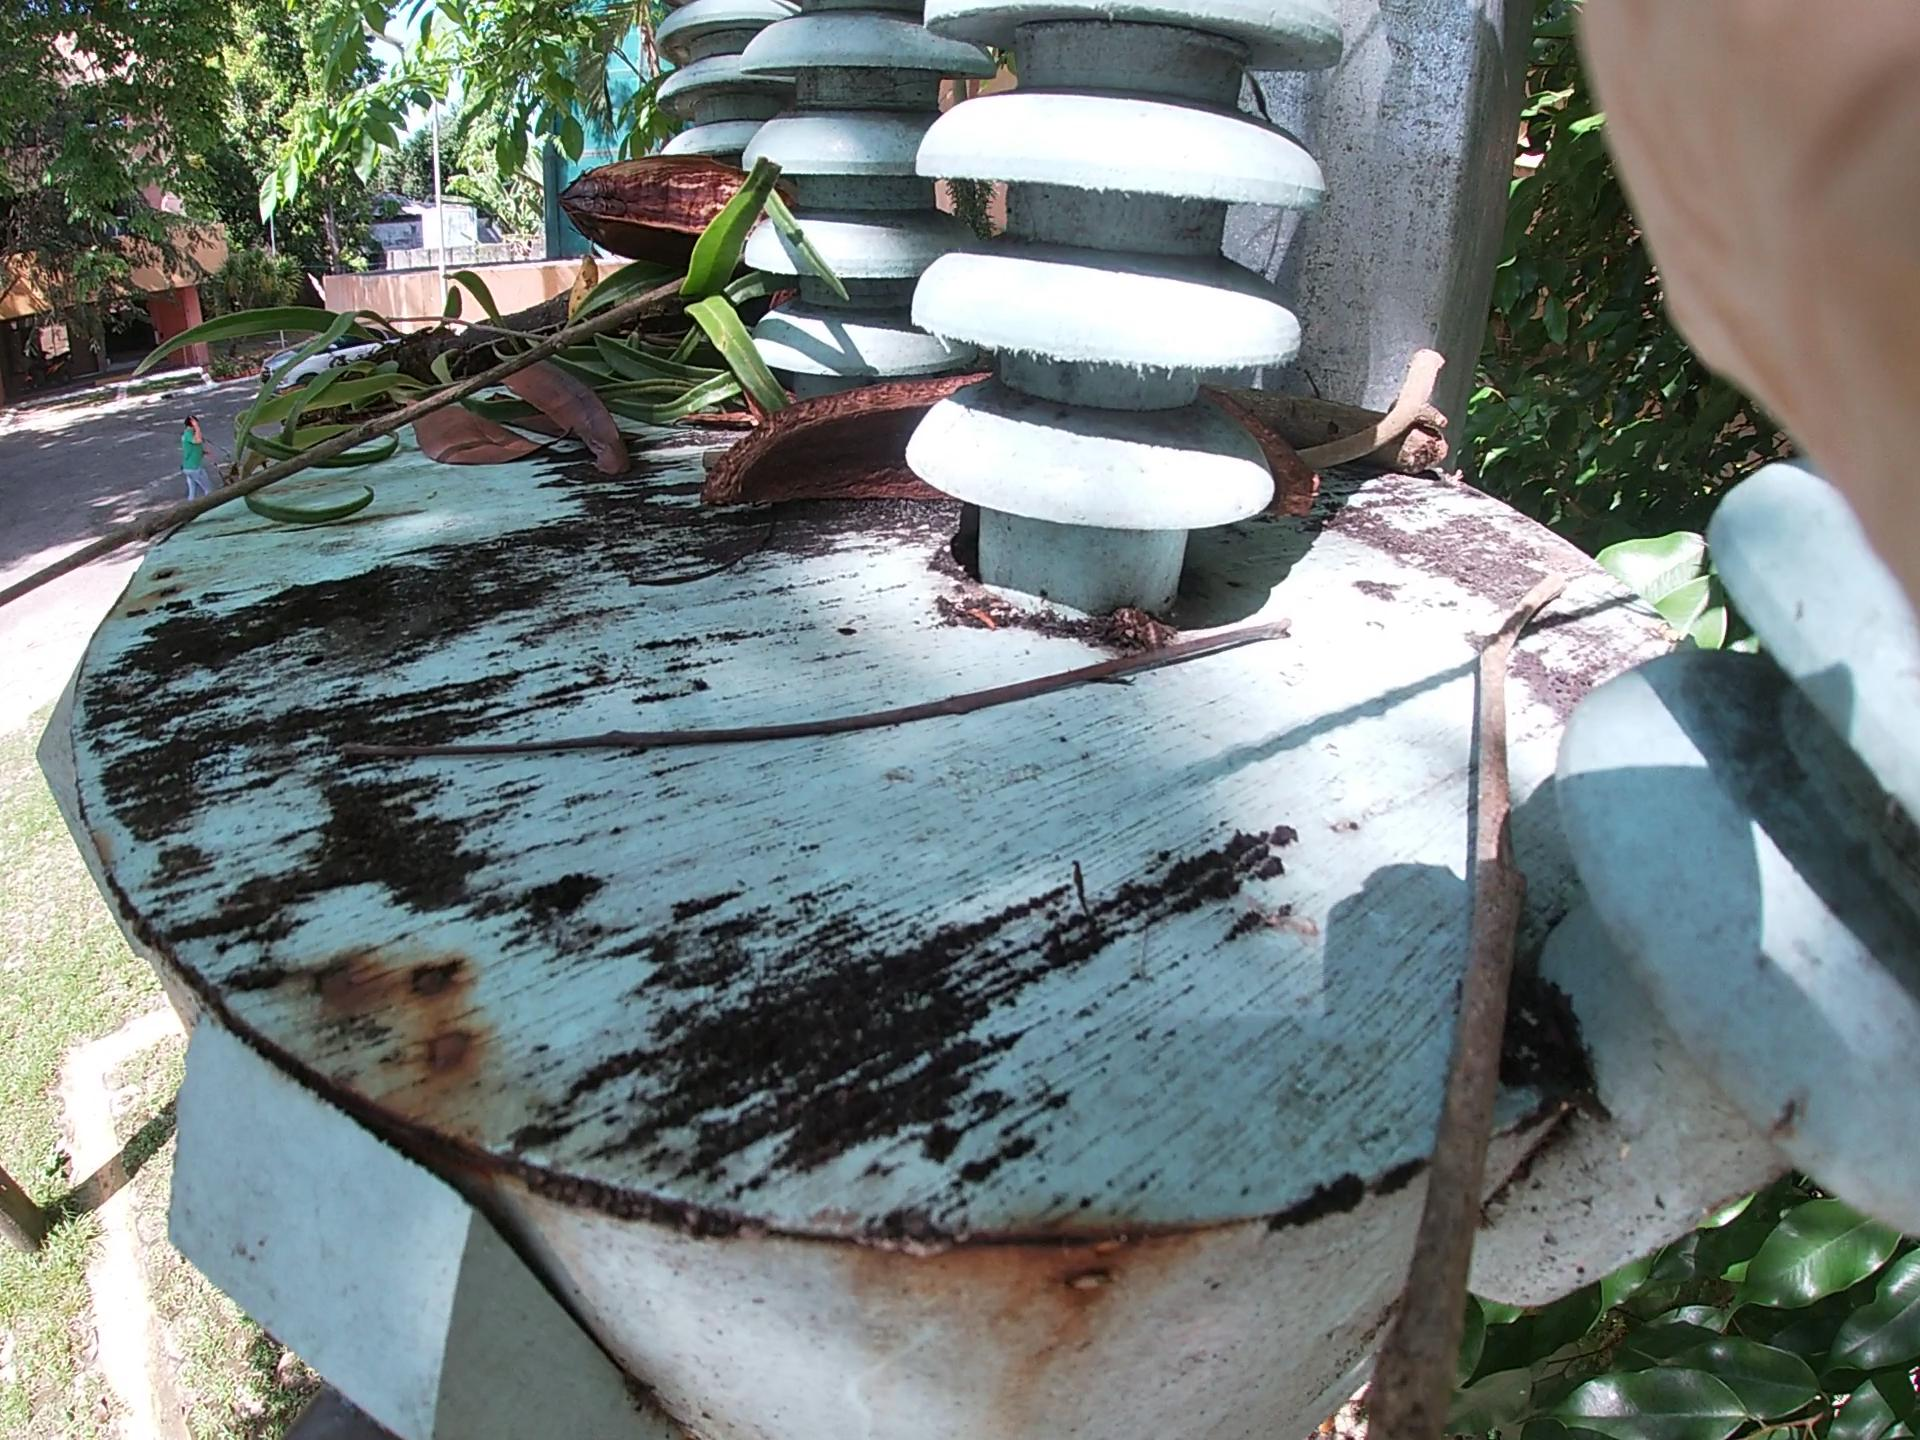branch with leaves: (194, 228, 1450, 476)
leaf: (399, 366, 664, 511)
mahogany fruit: (748, 331, 1214, 514), (544, 100, 901, 321)
tree branch: (3, 290, 730, 607), (337, 610, 1288, 737), (1450, 540, 1547, 1440)
